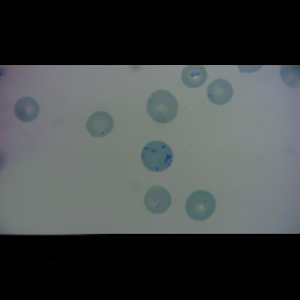aggregate reticulocyte: (139, 139, 175, 173)
erythrocyte: (85, 110, 116, 138), (13, 96, 41, 123), (180, 65, 209, 89)
punctate reticulocyte: (145, 88, 180, 124), (184, 188, 219, 222), (143, 183, 173, 215), (206, 77, 235, 106)
